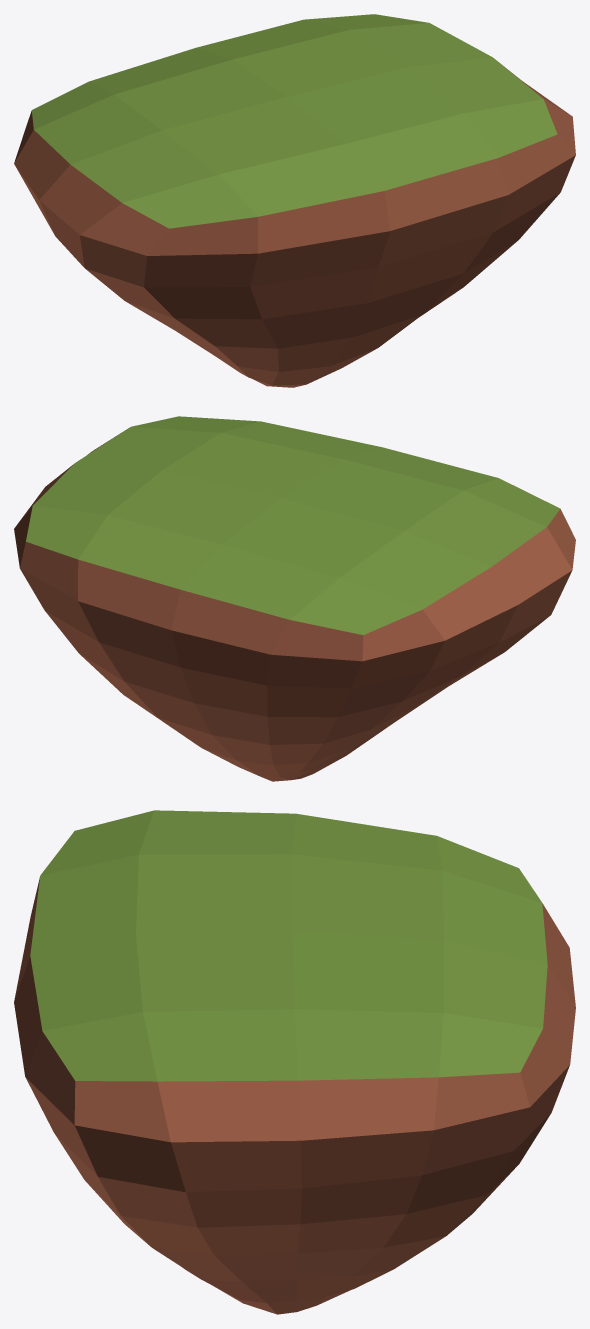
Rendered from island.fbx.
3 views of the same model, one above another, from view 1: azimuth 30°, elevation 25°; view 2: azimuth 150°, elevation 25°; view 3: azimuth 270°, elevation 25° (orthographic). The views are drawn at different scales.
Visible parts, largest first — view 1: Cube; view 2: Cube; view 3: Cube.
Boxes of the visible parts, left/top/right/bottom form: Cube: left=14, top=14, right=575, bottom=387; Cube: left=14, top=416, right=575, bottom=781; Cube: left=14, top=810, right=575, bottom=1314.
Bounding box in the file's own units: 39947 × 22329 × 30130.
